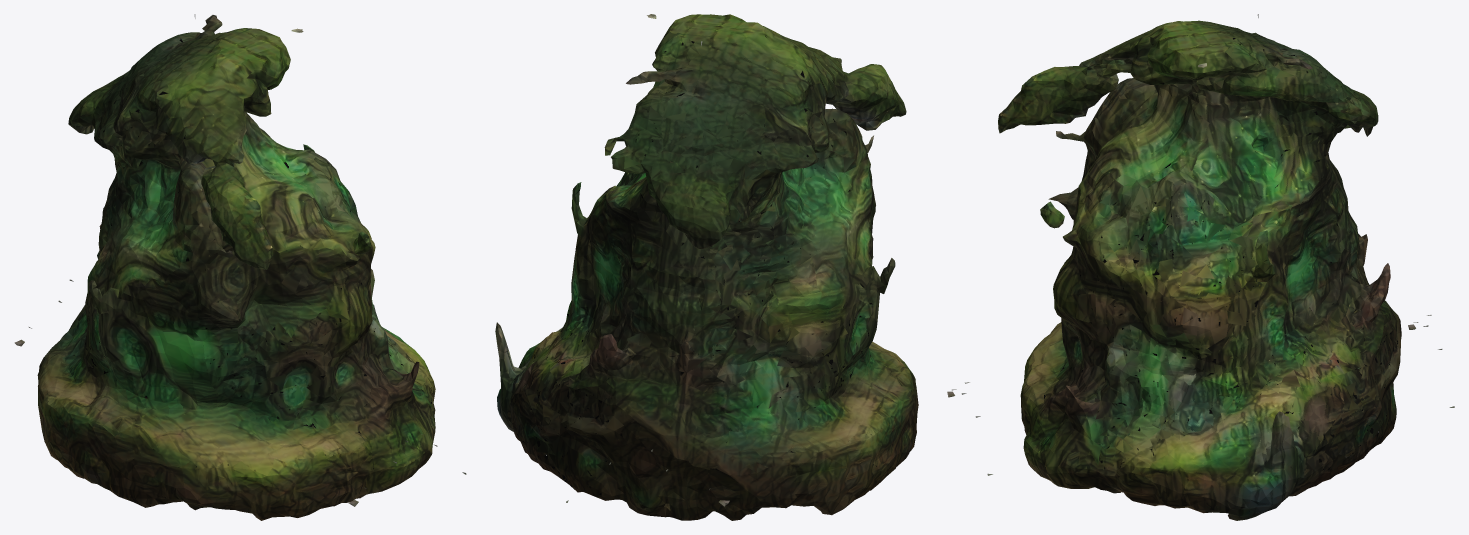
The model's file is cliff_3.glb.
3 views of the same model, side by side, from view 1: azimuth 30°, elevation 25°; view 2: azimuth 150°, elevation 25°; view 3: azimuth 270°, elevation 25° (orthographic). The views are drawn at different scales.
Visible parts, largest first — view 1: zzzz30; view 2: zzzz30; view 3: zzzz30.
Boxes of the visible parts, x1,y1,x2,y2 form: zzzz30: (14,14,466,520); zzzz30: (495,14,918,520); zzzz30: (947,14,1454,520).
Size of the model in its own units: 4.09 by 4.87 by 5.13.
1 material, 1 textured.
